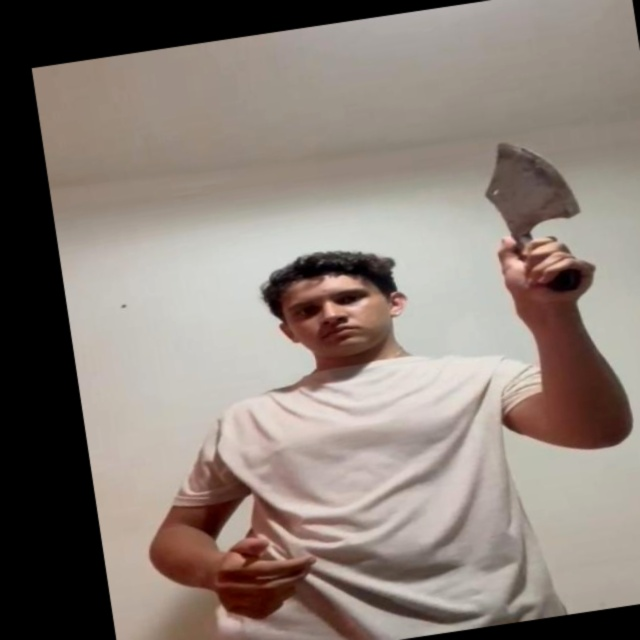Sharp-Object: (471, 133, 584, 240)
